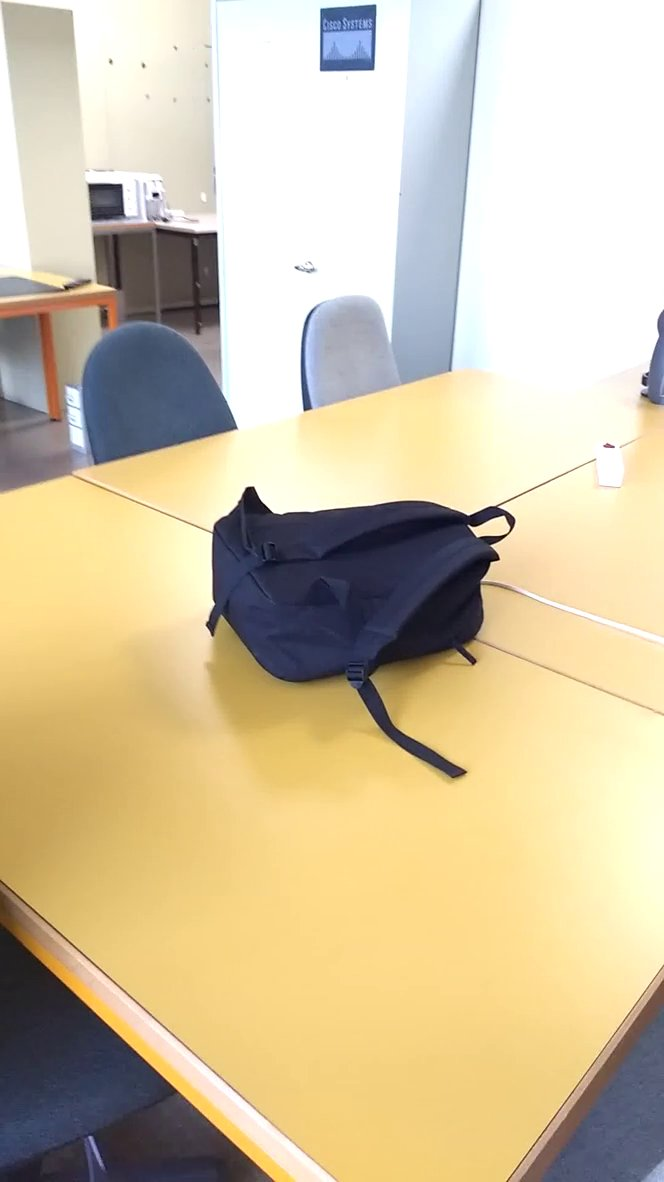bag: (185, 469, 535, 786)
chair: (68, 312, 247, 472), (290, 284, 421, 417)
